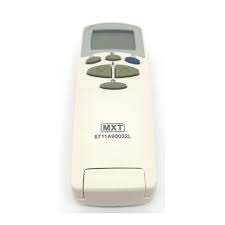remote control: (75, 16, 164, 208)
